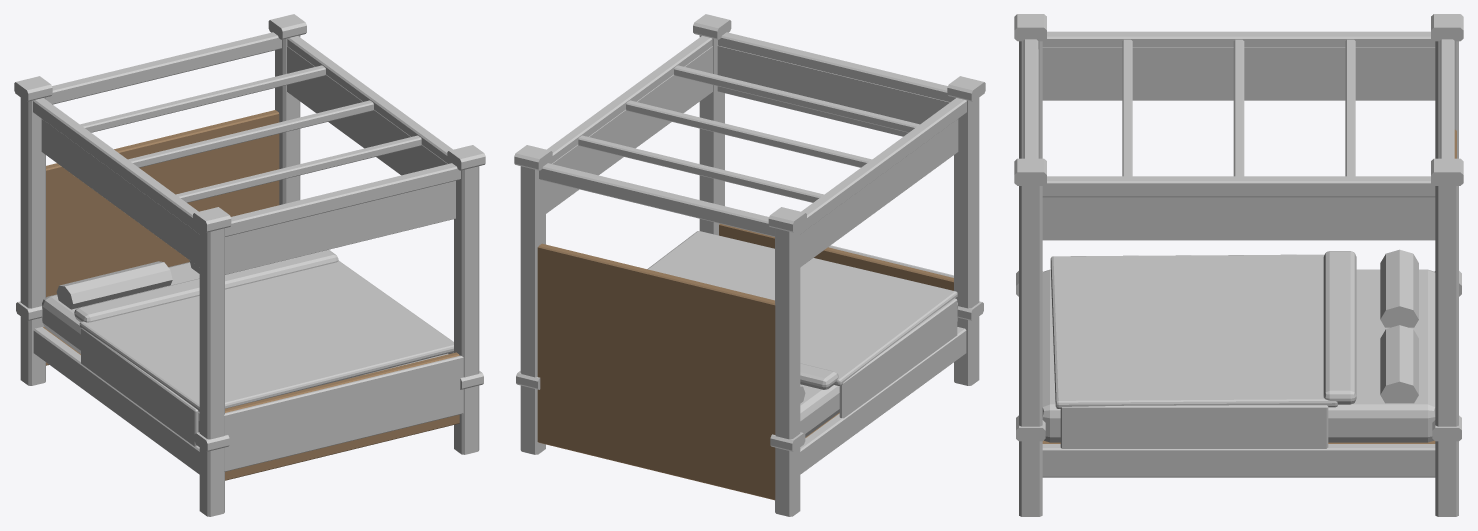
File: furn_bed_great.glb
The picture shows the model from 3 angles, left to right: view 1: azimuth 30°, elevation 25°; view 2: azimuth 150°, elevation 25°; view 3: azimuth 270°, elevation 25°; orthographic projection. The views are drawn at different scales.
Parts seen in each view (by area): view 1: furn_bed_great; view 2: furn_bed_great; view 3: furn_bed_great.
Part boxes in pixels (left/top/right/bottom): furn_bed_great: left=14, top=14, right=485, bottom=516; furn_bed_great: left=514, top=14, right=985, bottom=516; furn_bed_great: left=1014, top=14, right=1463, bottom=516.
Size of the model in its own units: 2.52 by 2.57 by 3.02.
